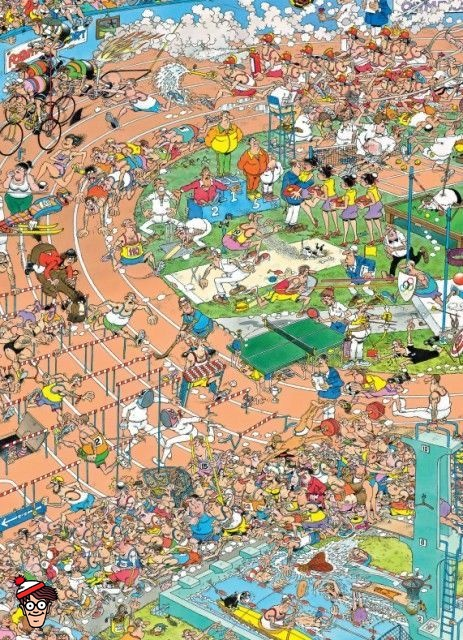waldo: (13, 574, 59, 628)
